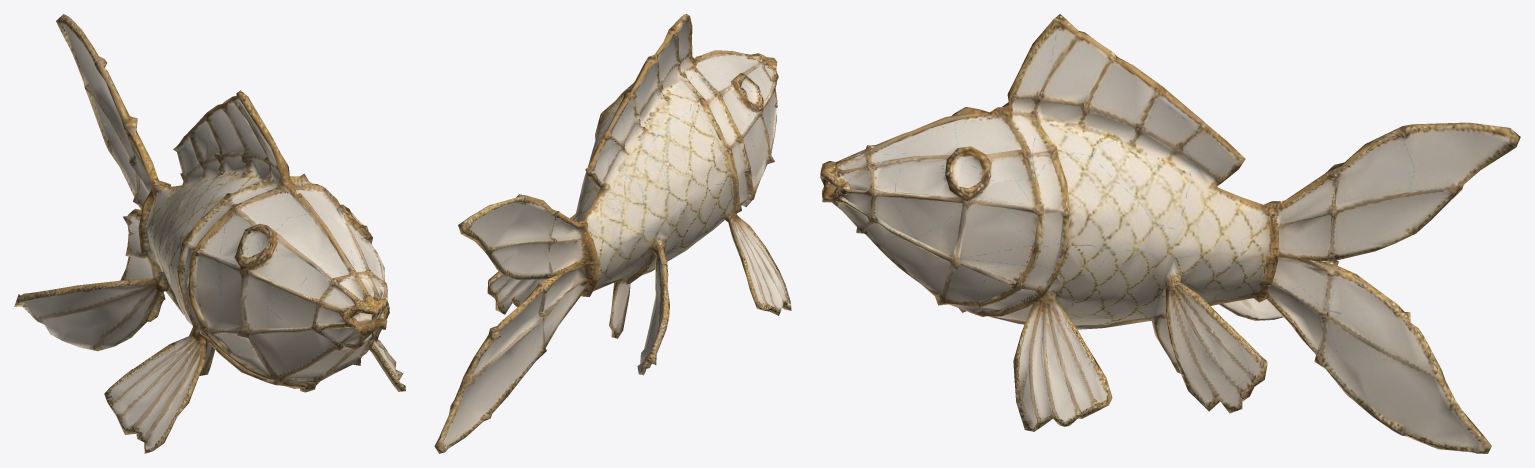
File: fish-fabric.glb
3 views of the same model, side by side, from view 1: azimuth 30°, elevation 25°; view 2: azimuth 150°, elevation 25°; view 3: azimuth 270°, elevation 25° (orthographic). The views are drawn at different scales.
Visible parts, largest first — view 1: tripo_node_bec508ea-c760-43a1-afa8-4a141c0bea82; view 2: tripo_node_bec508ea-c760-43a1-afa8-4a141c0bea82; view 3: tripo_node_bec508ea-c760-43a1-afa8-4a141c0bea82.
Part boxes in pixels (x1,y1,x2,y2): tripo_node_bec508ea-c760-43a1-afa8-4a141c0bea82: (14,14,405,453); tripo_node_bec508ea-c760-43a1-afa8-4a141c0bea82: (434,14,791,453); tripo_node_bec508ea-c760-43a1-afa8-4a141c0bea82: (820,14,1520,453).
Size of the model in its own units: 0.467 by 0.6255 by 1.
Materials: 1 (1 with a texture image).
